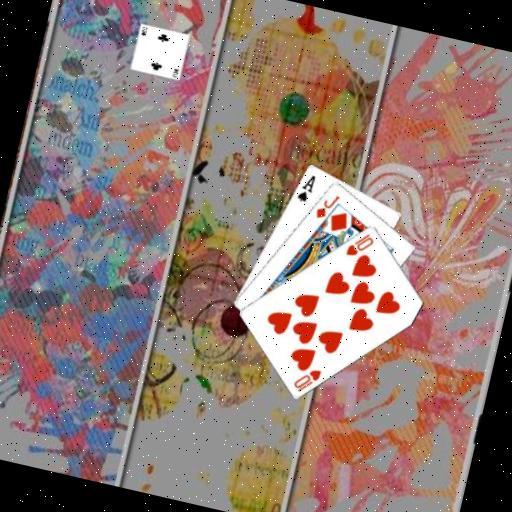10H: (342, 226, 377, 262), (289, 362, 324, 398)
AS: (293, 169, 318, 205)
JD: (312, 188, 342, 223)
